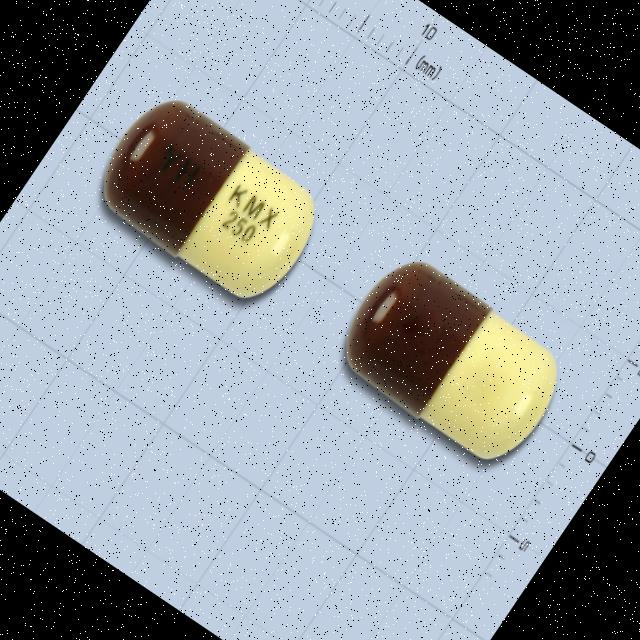Kymoxin Cap: (82, 82, 337, 316), (324, 245, 578, 478)
